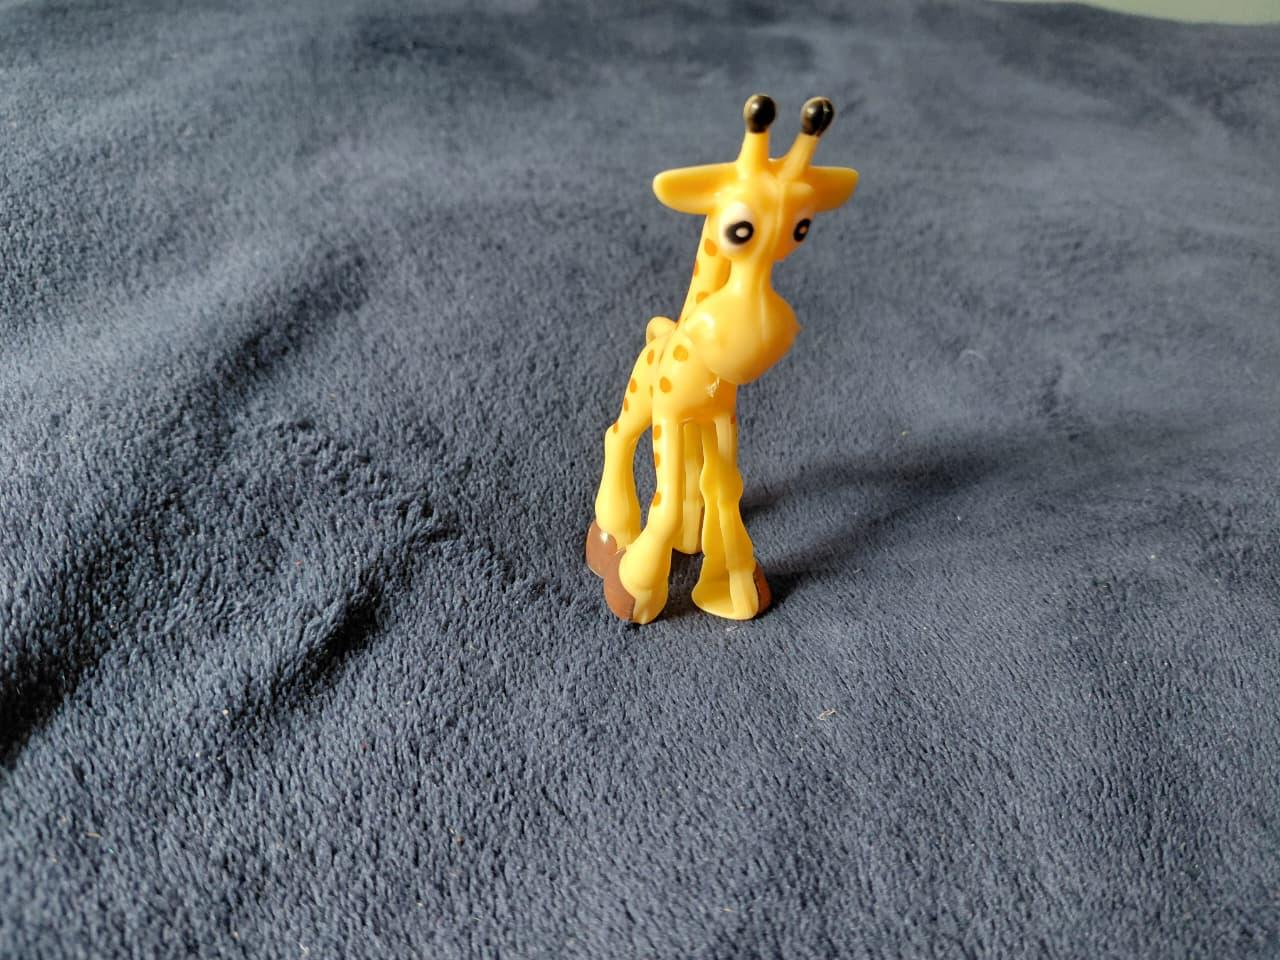giraffe: (564, 87, 863, 624)
